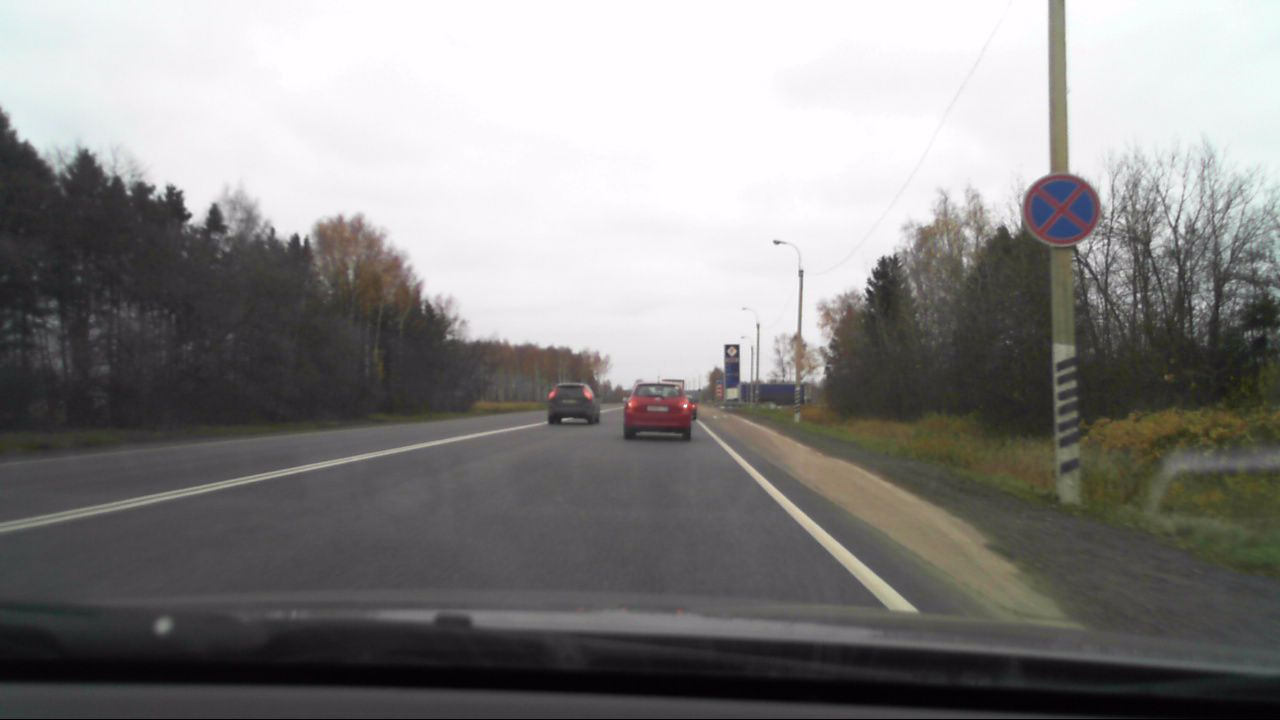No Parking: (1020, 168, 1103, 249)
